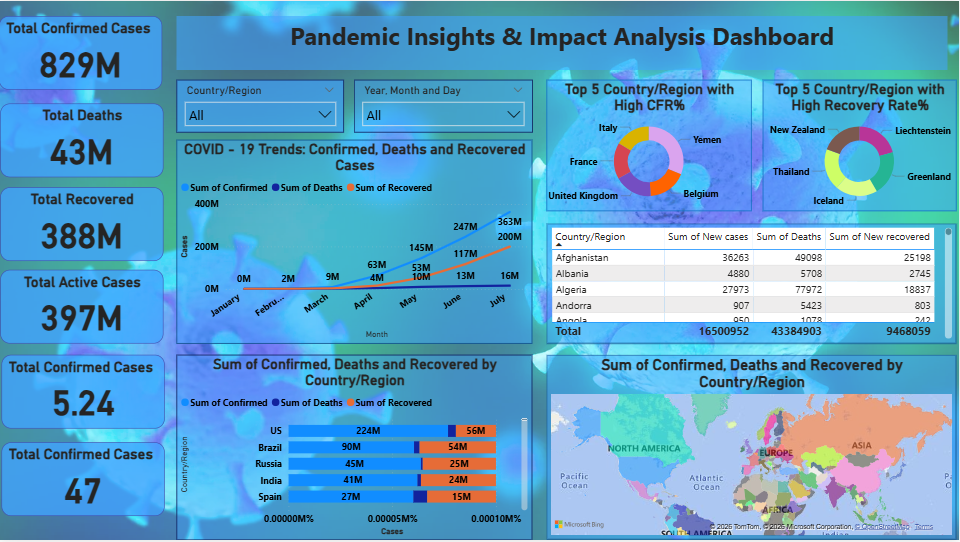

What the dashboard file says about the page in this screenshot:
{"tool":"powerbi","page":{"name":"Page 1","canvas":[1280,720],"ordinal":0},"visuals":[{"type":"card","title":"Total Confirmed Cases","fields":{"Values":["Sum(COVID19_Dataset.Confirmed)"]},"box":[0,20.8,217.3,98.3],"z":0},{"type":"card","title":"Total Deaths","fields":{"Values":["Sum(COVID19_Dataset.Deaths)"]},"box":[1.9,136.1,217.3,98.3],"z":1000},{"type":"card","title":"Total Recovered","fields":{"Values":["Sum(COVID19_Dataset.Recovered)"]},"box":[1.9,247.6,217.3,98.3],"z":2000},{"type":"card","title":"Total Active Cases","fields":{"Values":["Sum(COVID19_Dataset.Active)"]},"box":[1.9,359.1,217.3,98.3],"z":3000},{"type":"card","title":"Total Confirmed Cases","fields":{"Values":["COVID19_Dataset.CFR RATE"]},"box":[3.8,472.4,217.3,98.3],"z":4000},{"type":"card","title":"Total Confirmed Cases","fields":{"Values":["COVID19_Dataset.Recovery Rate"]},"box":[3.8,587.7,217.3,98.3],"z":5000},{"type":"lineChart","title":"COVID - 19 Trends: Confirmed, Deaths and Recovered Cases","fields":{"Category":["COVID19_Dataset.Date.Variation.Date Hierarchy.Month"],"Y":["Sum(COVID19_Dataset.Confirmed)","Sum(COVID19_Dataset.Deaths)","Sum(COVID19_Dataset.Recovered)"]},"box":[236.2,185.2,474.3,272.1],"z":6000},{"type":"donutChart","title":"Top 5 Country/Region with High CFR%","fields":{"Category":["COVID19_Dataset.Country/Region"],"Y":["COVID19_Dataset.CFR RATE"]},"box":[730,105,273.3,175],"z":7000},{"type":"donutChart","title":"Top 5 Country/Region with High Recovery Rate%","fields":{"Category":["COVID19_Dataset.Country/Region"],"Y":["COVID19_Dataset.Recovery Rate"]},"box":[1018.3,105,258.3,175],"z":8000},{"type":"hundredPercentStackedBarChart","title":"Sum of Confirmed, Deaths and Recovered by Country/Region","fields":{"Y":["Sum(COVID19_Dataset.Confirmed)","Sum(COVID19_Dataset.Deaths)","Sum(COVID19_Dataset.Recovered)"],"Category":["COVID19_Dataset.Country/Region"]},"box":[236.2,472.4,474.3,247.6],"z":9000},{"type":"filledMap","title":"Sum of Confirmed, Deaths and Recovered by Country/Region","fields":{"Series":["COVID19_Dataset.Country/Region"],"Category":["COVID19_Dataset.Country/Region"]},"box":[730,471.7,546.7,246.7],"z":10000},{"type":"tableEx","title":"COVID - 19 Trends: Confirmed, Deaths and Recovered Cases","fields":{"Values":["COVID19_Dataset.Country/Region","Sum(COVID19_Dataset.New cases)","Sum(COVID19_Dataset.Deaths)","Sum(COVID19_Dataset.New recovered)"]},"box":[730,296.7,546.7,160],"z":11000},{"type":"slicer","fields":{"Values":["COVID19_Dataset.Country/Region"]},"box":[236.7,105,223.3,70],"z":12000},{"type":"slicer","fields":{"Values":["COVID19_Dataset.Date"]},"box":[473.3,105,238.3,70],"z":13000},{"type":"textbox","box":[236.7,20,1028.3,71.7],"z":14000}]}

Visuals, with their boxes in screenshot pixels (x1, y1, x2, y2), scaled from the page's 1280x720 canvas onto the 960x542 screenshot:
"Total Confirmed Cases" card: bbox=[0, 16, 163, 90]
"Total Deaths" card: bbox=[1, 102, 164, 176]
"Total Recovered" card: bbox=[1, 186, 164, 260]
"Total Active Cases" card: bbox=[1, 270, 164, 344]
"Total Confirmed Cases" card: bbox=[3, 356, 166, 430]
"Total Confirmed Cases" card: bbox=[3, 442, 166, 516]
"COVID - 19 Trends: Confirmed, Deaths and Recovered Cases" lineChart: bbox=[177, 139, 533, 344]
"Top 5 Country/Region with High CFR%" donutChart: bbox=[548, 79, 752, 211]
"Top 5 Country/Region with High Recovery Rate%" donutChart: bbox=[764, 79, 957, 211]
"Sum of Confirmed, Deaths and Recovered by Country/Region" hundredPercentStackedBarChart: bbox=[177, 356, 533, 541]
"Sum of Confirmed, Deaths and Recovered by Country/Region" filledMap: bbox=[548, 355, 958, 541]
"COVID - 19 Trends: Confirmed, Deaths and Recovered Cases" tableEx: bbox=[548, 223, 958, 344]
slicer - COVID19_Dataset.Country/Region: bbox=[178, 79, 345, 132]
slicer - COVID19_Dataset.Date: bbox=[355, 79, 534, 132]
textbox: bbox=[178, 15, 949, 69]
